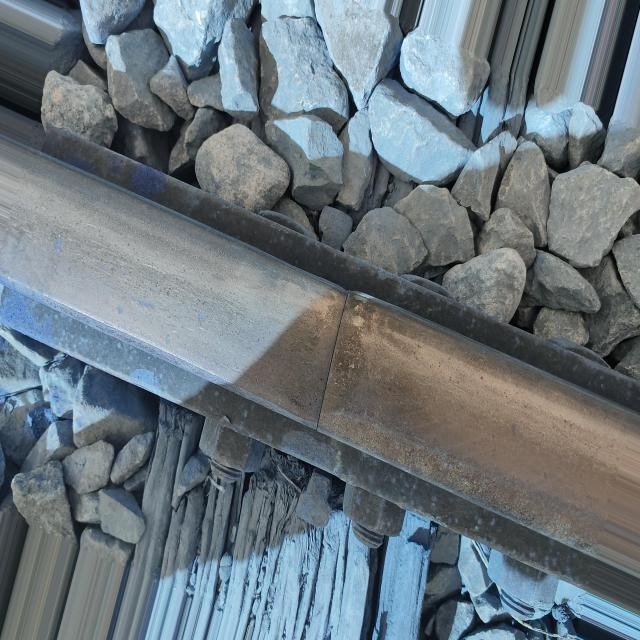crack: (322, 280, 372, 443)
